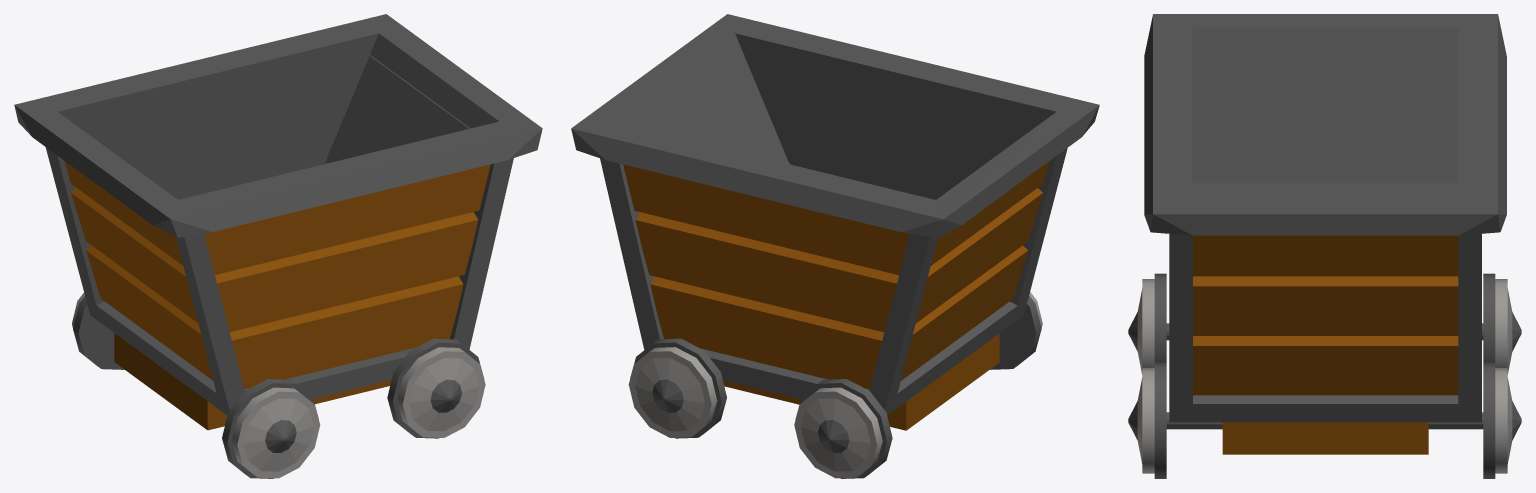
File: Minecart.fbx
3 renders of one model, left to right at view 1: azimuth 30°, elevation 25°; view 2: azimuth 150°, elevation 25°; view 3: azimuth 270°, elevation 25°, orthographic. The views are drawn at different scales.
Parts seen in each view (by area): view 1: Box428; view 2: Box428; view 3: Box428.
Part boxes in pixels (x1,y1,x2,y2): Box428: [14, 14, 542, 478]; Box428: [571, 14, 1099, 478]; Box428: [1128, 14, 1521, 478].
Bounding box in the file's own units: 64.06 × 46.96 × 53.14.
